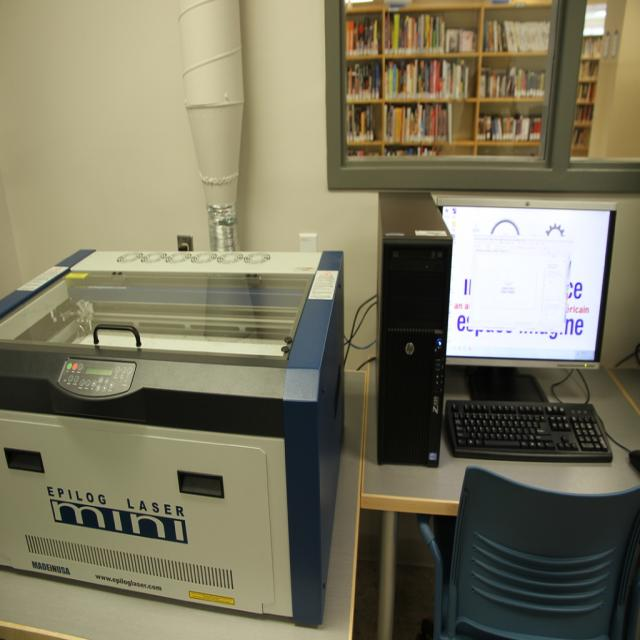chair: (424, 465, 640, 635)
desk: (31, 224, 504, 629)
keyboard: (446, 398, 613, 461)
tv: (432, 192, 620, 369)
